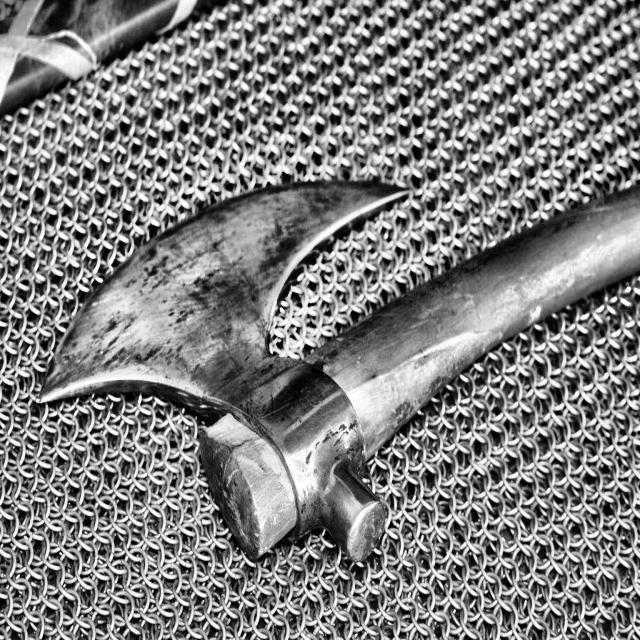kapak: (26, 164, 639, 571)
